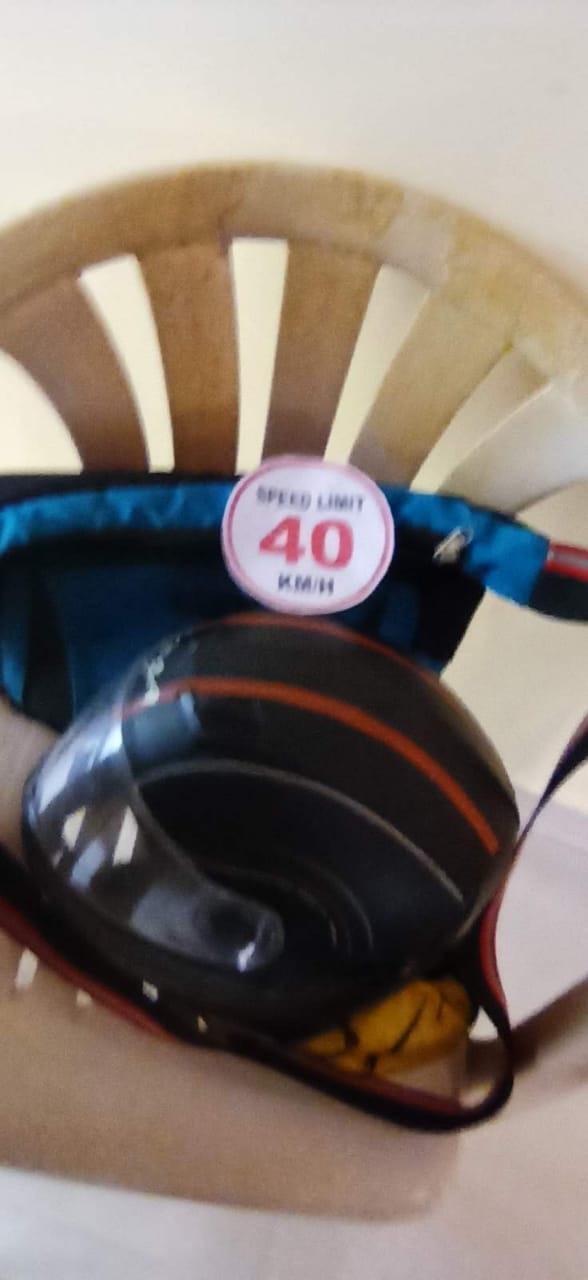SPEED LIMIT (40 KM/H): (201, 410, 451, 648)
